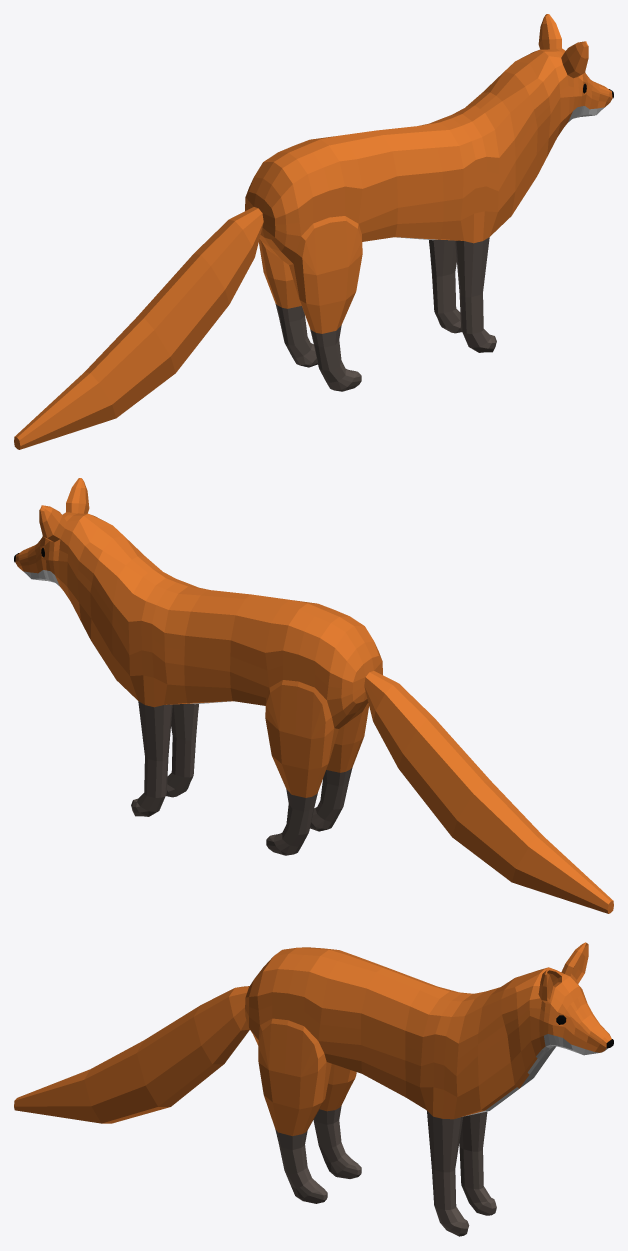
File: Fox.fbx
3 views of the same model, one above another, from view 1: azimuth 30°, elevation 25°; view 2: azimuth 150°, elevation 25°; view 3: azimuth 330°, elevation 25° (orthographic).
Parts seen in each view (by area): view 1: Fox; view 2: Fox; view 3: Fox.
Part boxes in pixels (<box>): Fox: <box>14,14,613,449</box>; Fox: <box>14,478,613,913</box>; Fox: <box>14,942,613,1236</box>.
Bounding box in the file's own units: 789 × 369 × 110.
